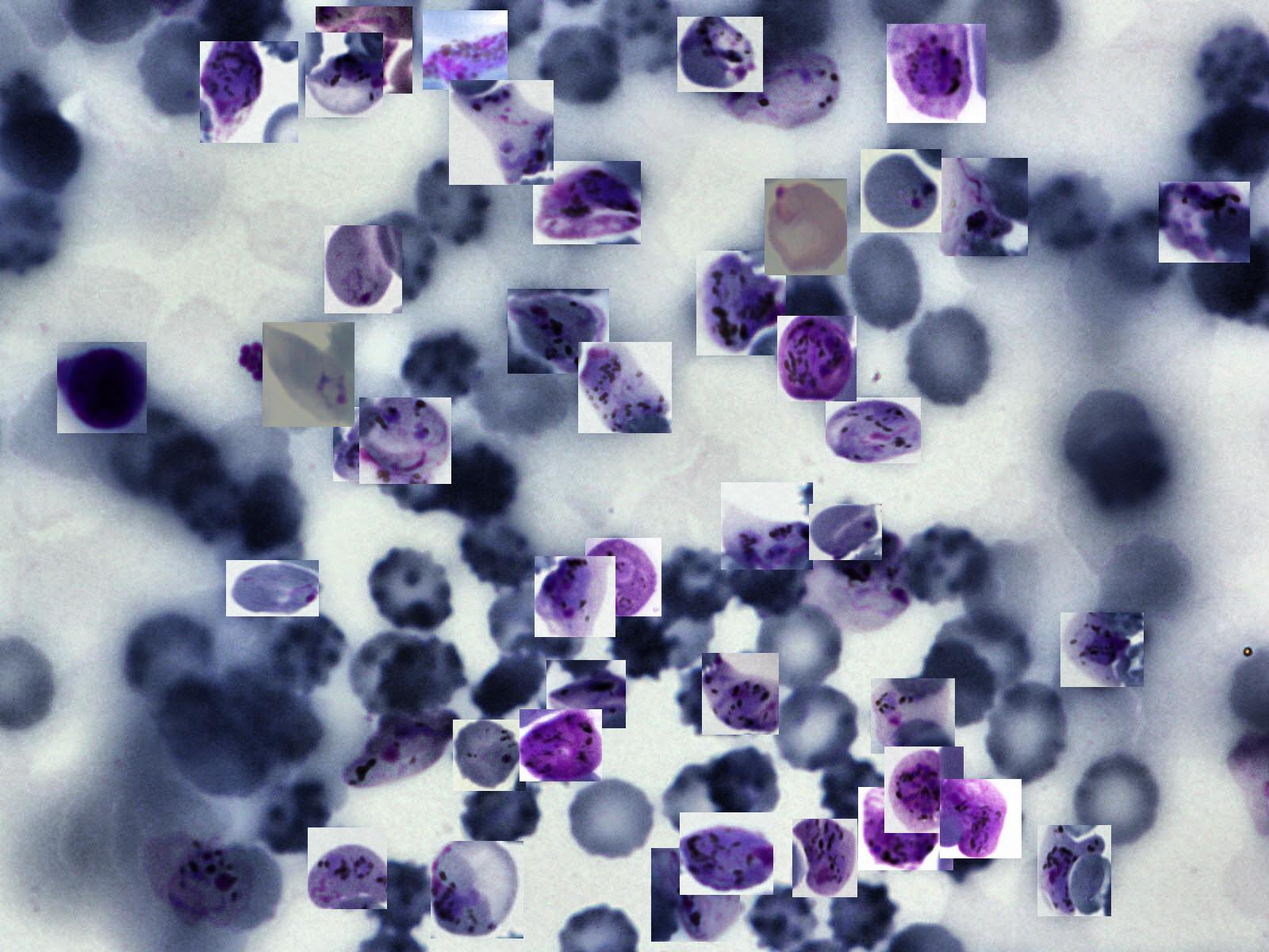Infected: (707, 44, 840, 129), (449, 80, 554, 185), (797, 533, 910, 630), (341, 704, 462, 789), (141, 836, 250, 927), (200, 42, 298, 143), (887, 24, 986, 123), (263, 322, 355, 427), (696, 251, 786, 355), (431, 841, 523, 939), (533, 161, 641, 244), (939, 158, 1028, 256), (508, 289, 609, 374), (578, 342, 672, 433), (316, 6, 412, 94), (651, 848, 740, 942), (57, 343, 147, 433), (721, 482, 813, 570), (359, 397, 451, 484), (765, 178, 847, 275), (858, 787, 953, 870), (680, 812, 773, 895), (1159, 182, 1250, 263), (884, 747, 964, 833), (324, 225, 402, 313), (777, 316, 857, 401), (423, 10, 508, 90), (1037, 825, 1111, 916), (861, 149, 941, 232), (305, 33, 383, 117), (535, 557, 615, 638), (308, 827, 387, 909), (940, 779, 1022, 858), (677, 17, 763, 92), (871, 678, 955, 754), (702, 653, 779, 735), (1060, 612, 1144, 687), (826, 397, 921, 463), (519, 710, 602, 782), (585, 538, 661, 616), (334, 407, 409, 482), (546, 660, 626, 728), (226, 560, 319, 616), (453, 720, 526, 791), (792, 819, 857, 897), (809, 504, 882, 560)
Uninfected: (900, 302, 997, 412), (980, 679, 1074, 791), (750, 593, 846, 697), (766, 678, 866, 775), (361, 543, 461, 635), (844, 225, 926, 336), (562, 774, 661, 864), (533, 21, 627, 111), (409, 155, 496, 251), (1064, 390, 1156, 480), (898, 525, 994, 610), (627, 581, 715, 672), (490, 582, 590, 662), (1074, 754, 1159, 848), (933, 611, 1032, 691), (124, 612, 215, 699), (141, 21, 224, 116), (359, 209, 439, 307), (346, 631, 433, 720), (663, 758, 750, 842), (669, 659, 758, 739), (377, 636, 468, 714), (1099, 205, 1183, 289), (456, 771, 543, 850), (398, 328, 484, 407), (1083, 429, 1171, 506), (921, 635, 995, 726), (1029, 171, 1111, 253), (654, 543, 738, 623), (435, 444, 519, 524), (266, 609, 344, 689), (923, 804, 999, 884), (707, 747, 786, 823), (456, 523, 541, 590), (238, 470, 304, 555), (730, 543, 806, 616), (821, 752, 894, 828), (258, 781, 332, 855), (608, 608, 677, 682), (470, 654, 548, 718), (363, 860, 435, 927), (826, 882, 897, 949), (746, 884, 818, 950)
